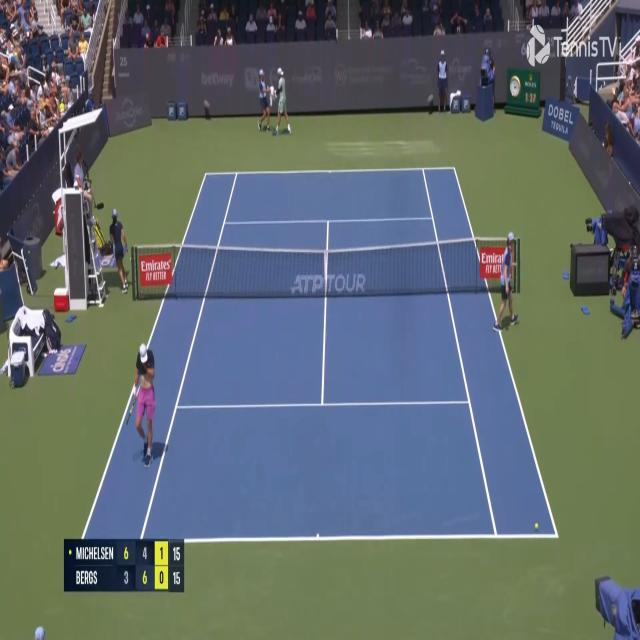tennis-player: (125, 342, 158, 470), (272, 65, 294, 138)
